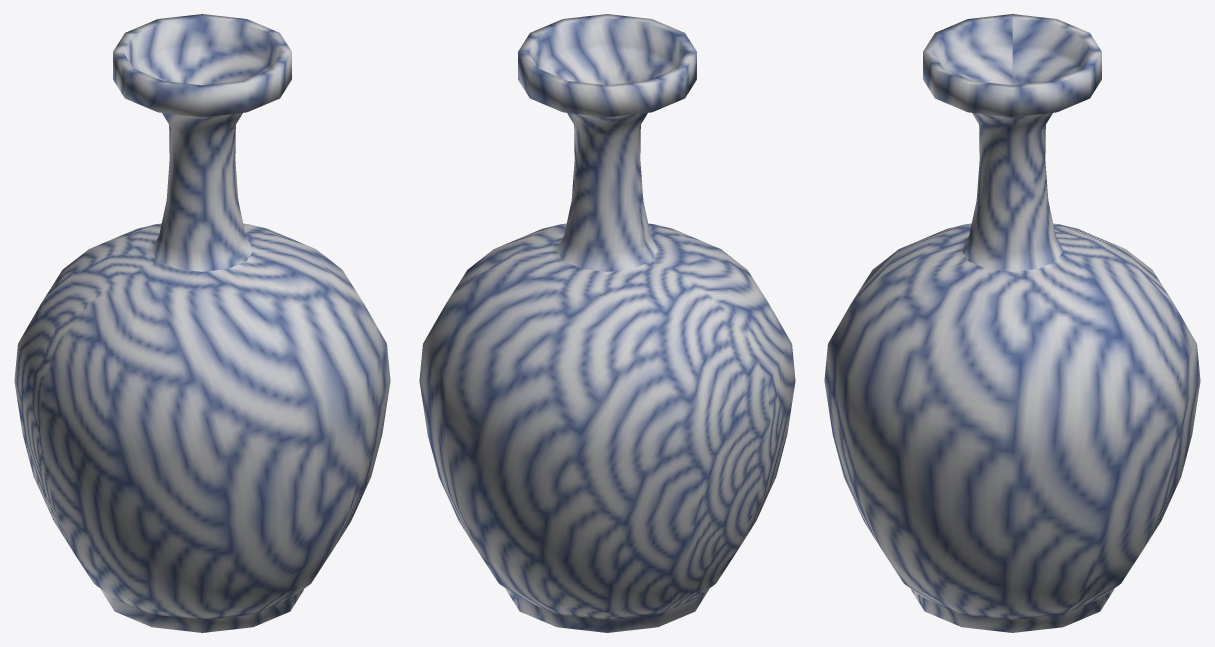
File: vase_3.fbx
3 views of the same model, side by side, from view 1: azimuth 30°, elevation 25°; view 2: azimuth 150°, elevation 25°; view 3: azimuth 270°, elevation 25° (orthographic).
Parts seen in each view (by area): view 1: vase_3; view 2: vase_3; view 3: vase_3.
Boxes of the visible parts, x1=… form: vase_3: x1=14, y1=14, x2=390, y2=632; vase_3: x1=419, y1=14, x2=795, y2=632; vase_3: x1=824, y1=14, x2=1200, y2=632.
Bounding box in the file's own units: 20.61 × 32.55 × 20.61.
